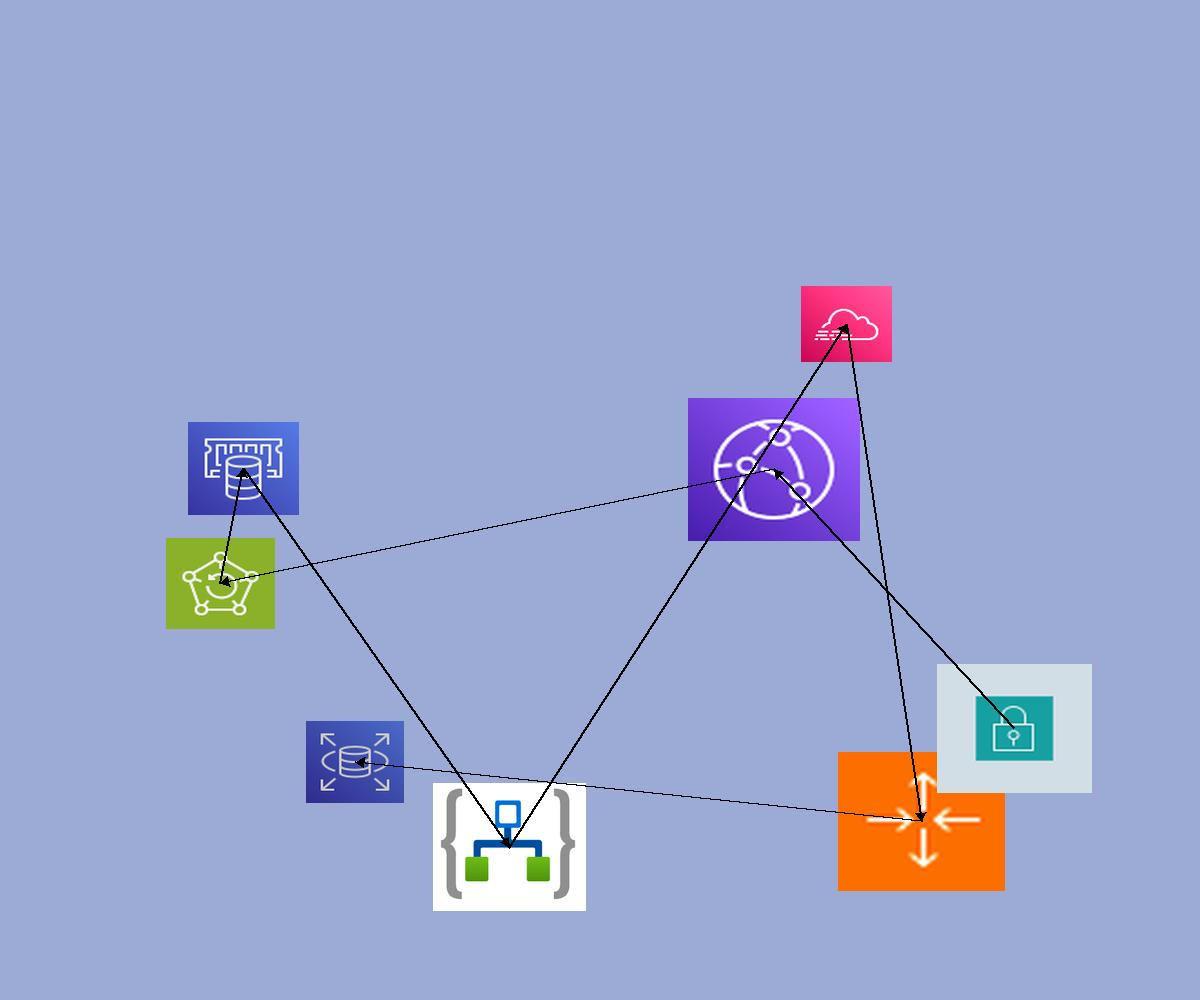AWS-Backup: (166, 538, 275, 629)
AWS-CloudFront: (688, 398, 860, 541)
AWS-CloudTrail: (801, 286, 892, 362)
AWS-ElastiCache: (188, 422, 299, 515)
AWS-Private-subnet: (937, 664, 1092, 793)
AWS-RDS: (306, 721, 404, 803)
AWS-Scaling-group: (838, 752, 1005, 891)
Azure_integration-204-Logic-Apps: (433, 783, 586, 911)
